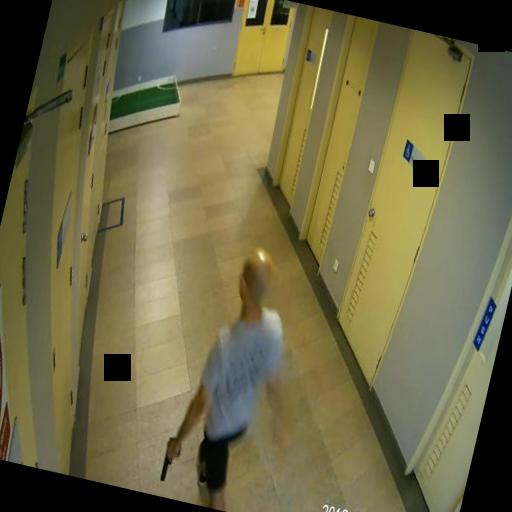Handgun: (160, 434, 182, 482)
